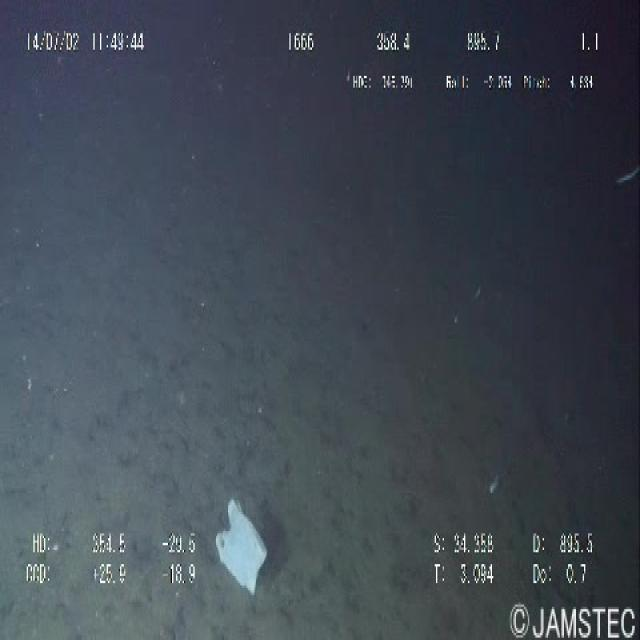plastic: (203, 488, 273, 604)
